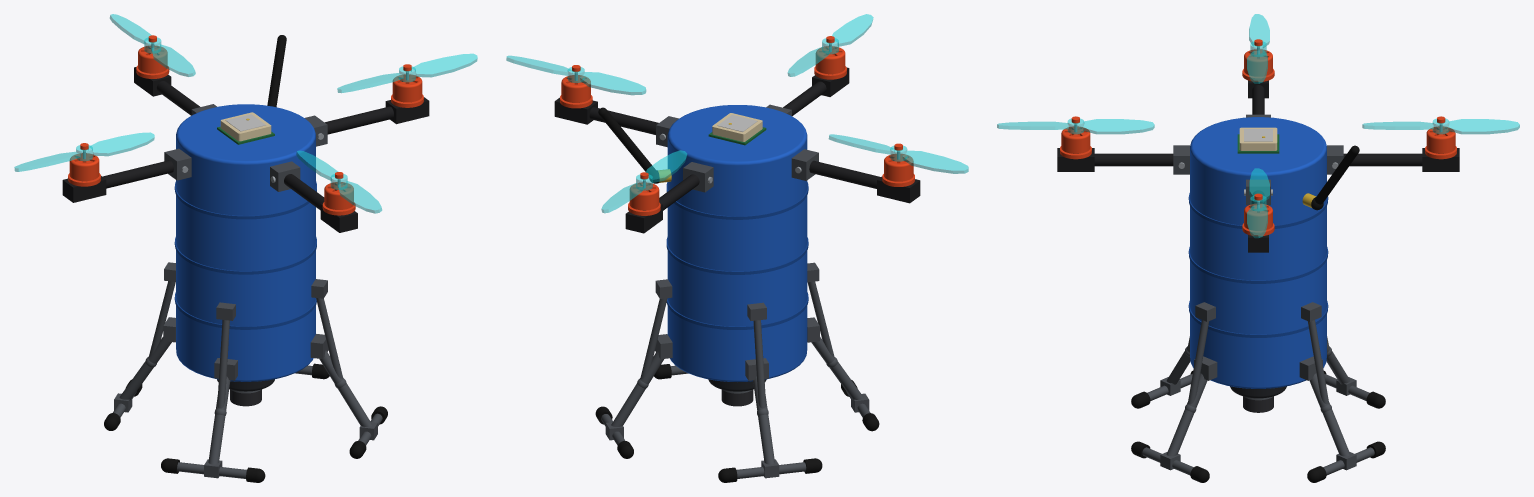
File: cansat.glb
The picture shows the model from 3 angles, left to right: view 1: azimuth 30°, elevation 25°; view 2: azimuth 150°, elevation 25°; view 3: azimuth 270°, elevation 25°; orthographic projection. The views are drawn at different scales.
Parts seen in each view (by area): view 1: body/body_shell, motor_arms/motor_arm_1/motor_1103/propeller, motor_arms/motor_arm_3/motor_1103/propeller, motor_arms/motor_arm_2/motor_1103/propeller, motor_arms/motor_arm_4/motor_1103/propeller, motor_arms/motor_arm_3/carbon_tube, motor_arms/motor_arm_1/carbon_tube, landing_gear/landing_leg_4/main_strut, motor_arms/motor_arm_1/motor_1103/motor_bell, motor_arms/motor_arm_3/motor_1103/motor_bell, motor_arms/motor_arm_2/motor_1103/motor_bell, motor_arms/motor_arm_4/motor_1103/motor_bell (+18 smaller); view 2: body/body_shell, motor_arms/motor_arm_1/motor_1103/propeller, motor_arms/motor_arm_3/motor_1103/propeller, motor_arms/motor_arm_2/motor_1103/propeller, motor_arms/motor_arm_4/motor_1103/propeller, motor_arms/motor_arm_3/carbon_tube, landing_gear/landing_leg_1/main_strut, antennas/lora_whip, motor_arms/motor_arm_2/motor_1103/motor_bell, motor_arms/motor_arm_4/motor_1103/motor_bell, motor_arms/motor_arm_3/motor_1103/motor_bell, motor_arms/motor_arm_1/motor_1103/motor_bell (+18 smaller); view 3: body/body_shell, motor_arms/motor_arm_4/motor_1103/propeller, motor_arms/motor_arm_2/motor_1103/propeller, motor_arms/motor_arm_1/motor_1103/propeller, motor_arms/motor_arm_3/motor_1103/propeller, motor_arms/motor_arm_4/carbon_tube, motor_arms/motor_arm_2/carbon_tube, landing_gear/landing_leg_1/main_strut, landing_gear/landing_leg_4/main_strut, motor_arms/motor_arm_2/motor_1103/motor_bell, motor_arms/motor_arm_4/motor_1103/motor_bell, motor_arms/motor_arm_1/motor_1103/motor_bell (+9 smaller).
Part boxes in pixels (x1,y1,x2,y2): body/body_shell: [176, 104, 315, 381]; motor_arms/motor_arm_1/motor_1103/propeller: [337, 53, 477, 92]; motor_arms/motor_arm_3/motor_1103/propeller: [14, 132, 154, 171]; motor_arms/motor_arm_2/motor_1103/propeller: [110, 14, 195, 76]; motor_arms/motor_arm_4/motor_1103/propeller: [296, 150, 381, 213]; motor_arms/motor_arm_3/carbon_tube: [102, 160, 173, 188]; motor_arms/motor_arm_1/carbon_tube: [325, 106, 393, 134]; landing_gear/landing_leg_4/main_strut: [319, 350, 372, 426]; motor_arms/motor_arm_1/motor_1103/motor_bell: [392, 74, 422, 102]; motor_arms/motor_arm_3/motor_1103/motor_bell: [69, 153, 99, 181]; motor_arms/motor_arm_2/motor_1103/motor_bell: [138, 45, 167, 73]; motor_arms/motor_arm_4/motor_1103/motor_bell: [324, 182, 353, 209]; body/body_shell: [667, 105, 807, 381]; motor_arms/motor_arm_1/motor_1103/propeller: [506, 55, 646, 95]; motor_arms/motor_arm_3/motor_1103/propeller: [828, 134, 968, 173]; motor_arms/motor_arm_2/motor_1103/propeller: [601, 150, 687, 213]; motor_arms/motor_arm_4/motor_1103/propeller: [787, 14, 873, 76]; motor_arms/motor_arm_3/carbon_tube: [809, 160, 880, 188]; landing_gear/landing_leg_1/main_strut: [611, 350, 663, 426]; antennas/lora_whip: [600, 110, 656, 176]; motor_arms/motor_arm_2/motor_1103/motor_bell: [629, 182, 659, 210]; motor_arms/motor_arm_4/motor_1103/motor_bell: [815, 46, 845, 74]; motor_arms/motor_arm_3/motor_1103/motor_bell: [884, 153, 913, 181]; motor_arms/motor_arm_1/motor_1103/motor_bell: [561, 75, 590, 102]; body/body_shell: [1190, 117, 1326, 388]; motor_arms/motor_arm_4/motor_1103/propeller: [997, 118, 1154, 134]; motor_arms/motor_arm_2/motor_1103/propeller: [1362, 118, 1519, 134]; motor_arms/motor_arm_1/motor_1103/propeller: [1247, 168, 1269, 238]; motor_arms/motor_arm_3/motor_1103/propeller: [1247, 14, 1269, 83]; motor_arms/motor_arm_4/carbon_tube: [1094, 153, 1173, 166]; motor_arms/motor_arm_2/carbon_tube: [1343, 153, 1422, 166]; landing_gear/landing_leg_1/main_strut: [1309, 373, 1350, 456]; landing_gear/landing_leg_4/main_strut: [1166, 373, 1207, 456]; motor_arms/motor_arm_2/motor_1103/motor_bell: [1426, 126, 1455, 153]; motor_arms/motor_arm_4/motor_1103/motor_bell: [1061, 126, 1090, 153]; motor_arms/motor_arm_1/motor_1103/motor_bell: [1244, 203, 1272, 230].
Bounding box in the file's own units: 0.252 × 0.1735 × 0.252.
